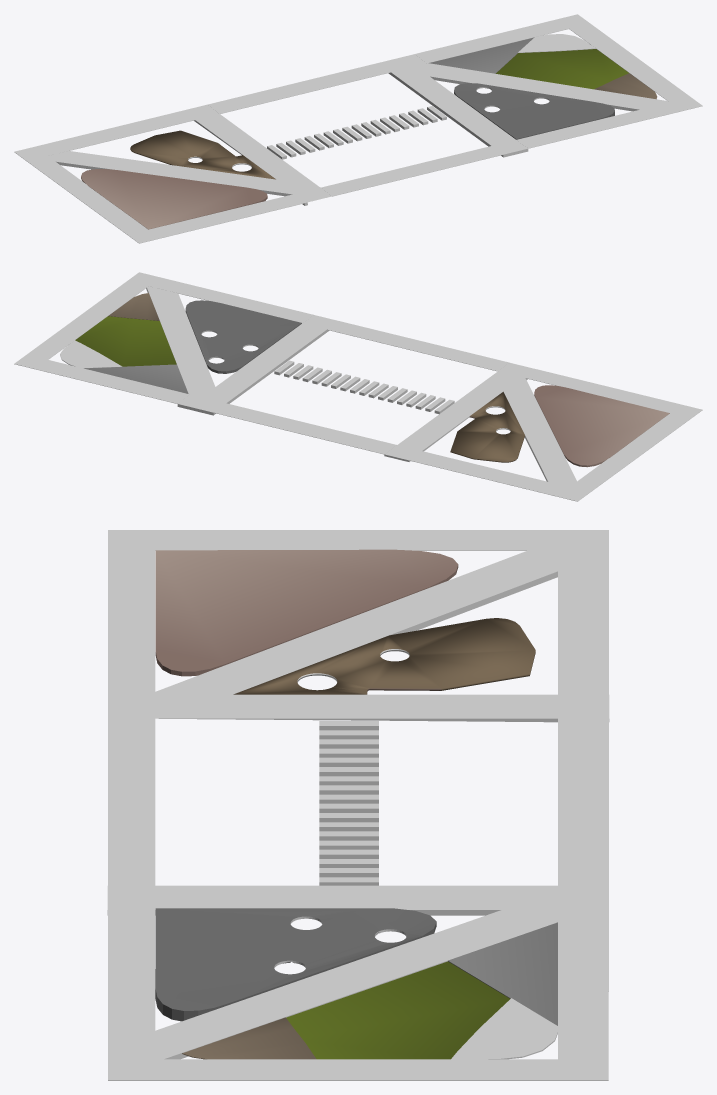
Rendered from Ter.fbx.
3 views of the same model, one above another, from view 1: azimuth 30°, elevation 25°; view 2: azimuth 150°, elevation 25°; view 3: azimuth 270°, elevation 25° (orthographic). The views are drawn at different scales.
Visible parts, largest first — view 1: Plane.040, Cube.153, Cube.620, Cube.429, Cube.615, Cylinder.041, Cube.673, Cube.470, Cube.487, Cube.477; view 2: Plane.040, Cube.153, Cube.620, Cube.429, Cube.615, Cylinder.041, Cube.673, Cube.470, Cube.487, Cube.477; view 3: Plane.040, Cube.153, Cube.620, Cube.429, Cube.615, Cylinder.041, Cube.673, Cube.470, Cube.487, Cube.477.
Part boxes in pixels (<box>): Plane.040: <box>14,14,702,243</box>; Cube.153: <box>48,54,669,205</box>; Cube.620: <box>81,169,267,229</box>; Cube.429: <box>454,83,614,139</box>; Cube.615: <box>496,49,628,89</box>; Cylinder.041: <box>130,130,275,179</box>; Cube.673: <box>267,106,446,159</box>; Cube.470: <box>429,37,534,73</box>; Cube.487: <box>518,34,595,52</box>; Cube.477: <box>594,73,657,99</box>; Plane.040: <box>14,272,702,501</box>; Cube.153: <box>146,286,576,486</box>; Cube.620: <box>534,385,669,467</box>; Cube.429: <box>185,300,301,373</box>; Cube.615: <box>75,316,176,366</box>; Cylinder.041: <box>450,392,524,462</box>; Cube.673: <box>274,360,454,414</box>; Cube.470: <box>84,364,188,393</box>; Cube.487: <box>60,340,122,368</box>; Cube.477: <box>108,293,159,320</box>; Plane.040: <box>108,530,608,1080</box>; Cube.153: <box>107,550,609,1059</box>; Cube.620: <box>155,549,458,676</box>; Cube.429: <box>155,908,436,1021</box>; Cube.615: <box>286,961,509,1059</box>; Cylinder.041: <box>233,618,535,694</box>; Cube.673: <box>319,721,378,885</box>; Cube.470: <box>448,922,557,1025</box>; Cube.487: <box>451,998,557,1059</box>; Cube.477: <box>182,1017,316,1059</box>.
Size of the model in its own units: 120 by 46.4 by 1.11.
